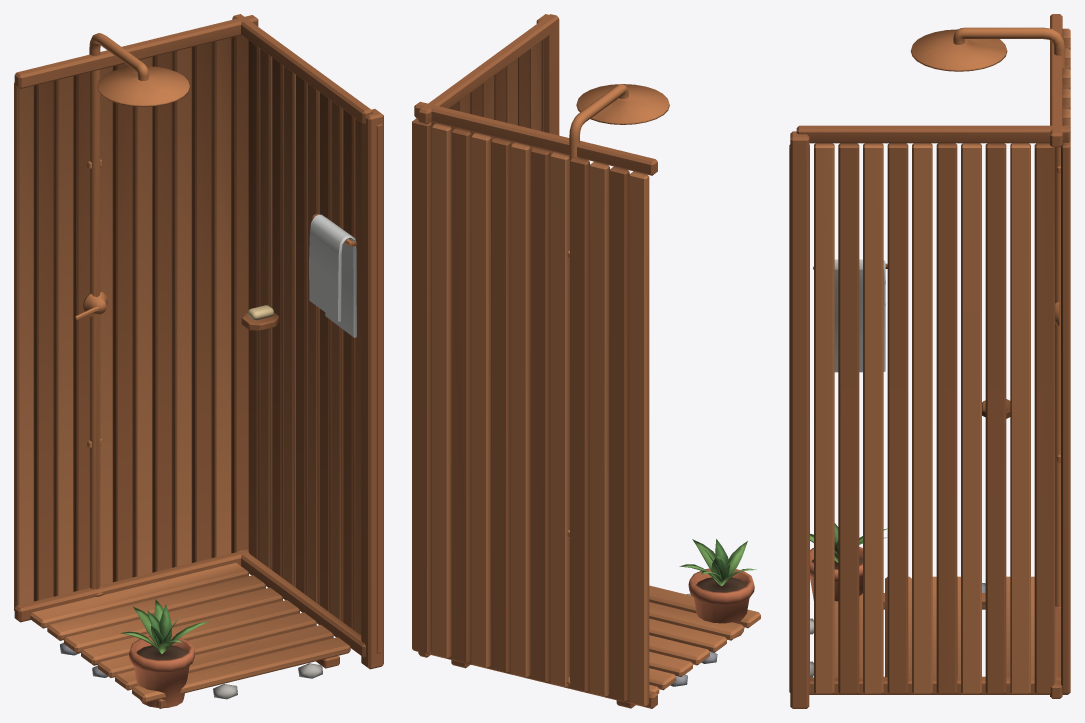
The model's file is cedarShower.glb.
The picture shows the model from 3 angles, left to right: view 1: azimuth 30°, elevation 25°; view 2: azimuth 150°, elevation 25°; view 3: azimuth 270°, elevation 25°; orthographic projection. The views are drawn at different scales.
Parts seen in each view (by area): view 1: body; view 2: body; view 3: body.
Boxes of the visible parts, x1,y1,x2,y2 form: body: (14, 14, 383, 708); body: (412, 14, 760, 708); body: (789, 14, 1070, 708).
Bounding box in the file's own units: 0.9 × 2.08 × 0.8825.
